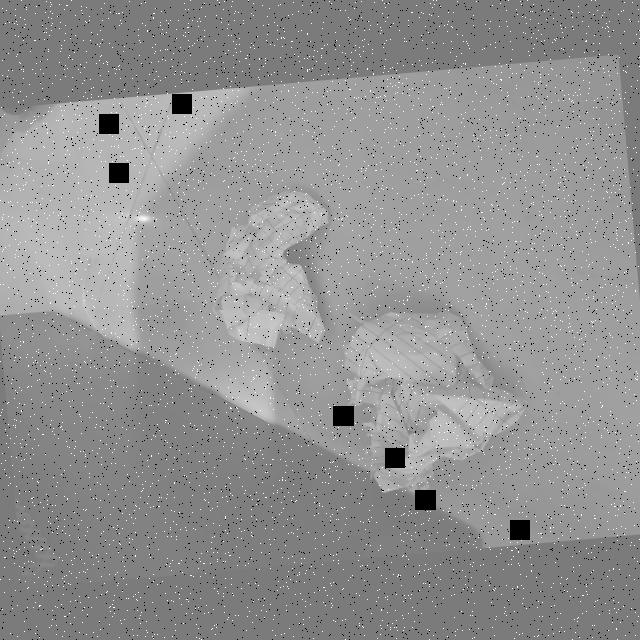scrap_paper: (338, 302, 530, 498), (198, 185, 330, 350)
